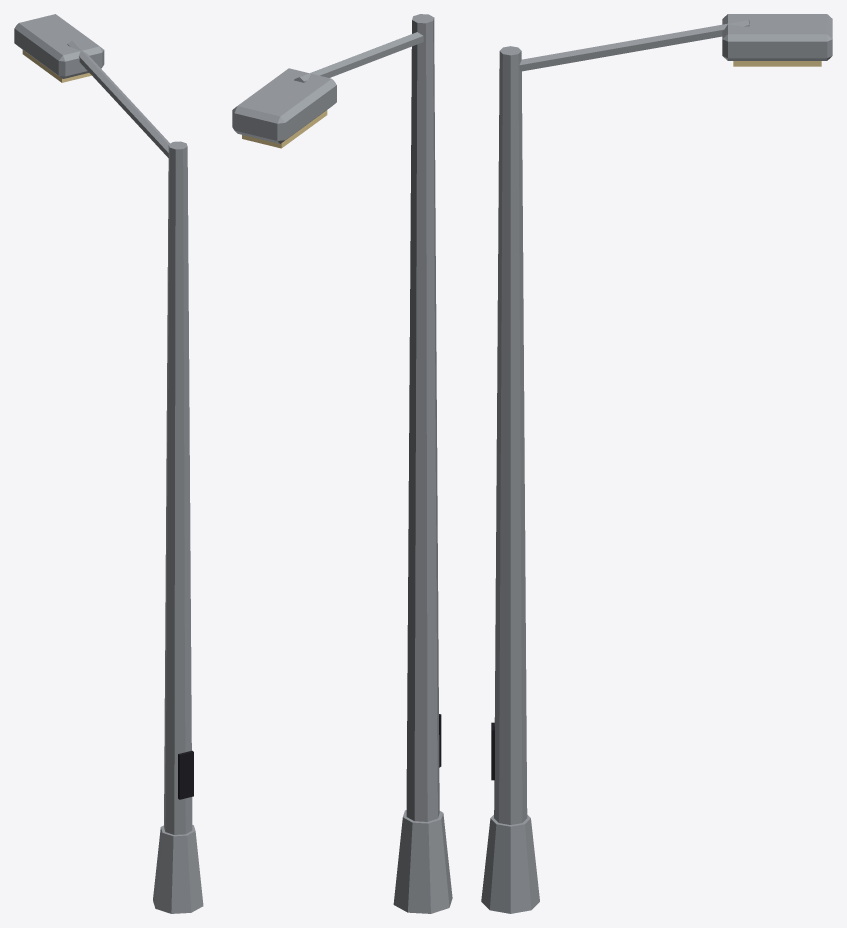
Rendered from street.lamp.glb.
3 renders of one model, left to right at view 1: azimuth 30°, elevation 25°; view 2: azimuth 150°, elevation 25°; view 3: azimuth 270°, elevation 25°, orthographic. The views are drawn at different scales.
Parts seen in each view (by area): view 1: street-lamp; view 2: street-lamp; view 3: street-lamp.
Part boxes in pixels (x1,y1,x2,y2): street-lamp: [14, 14, 203, 913]; street-lamp: [232, 14, 452, 913]; street-lamp: [481, 14, 832, 913].
Size of the model in its own units: 0.32 by 5.28 by 1.91.
